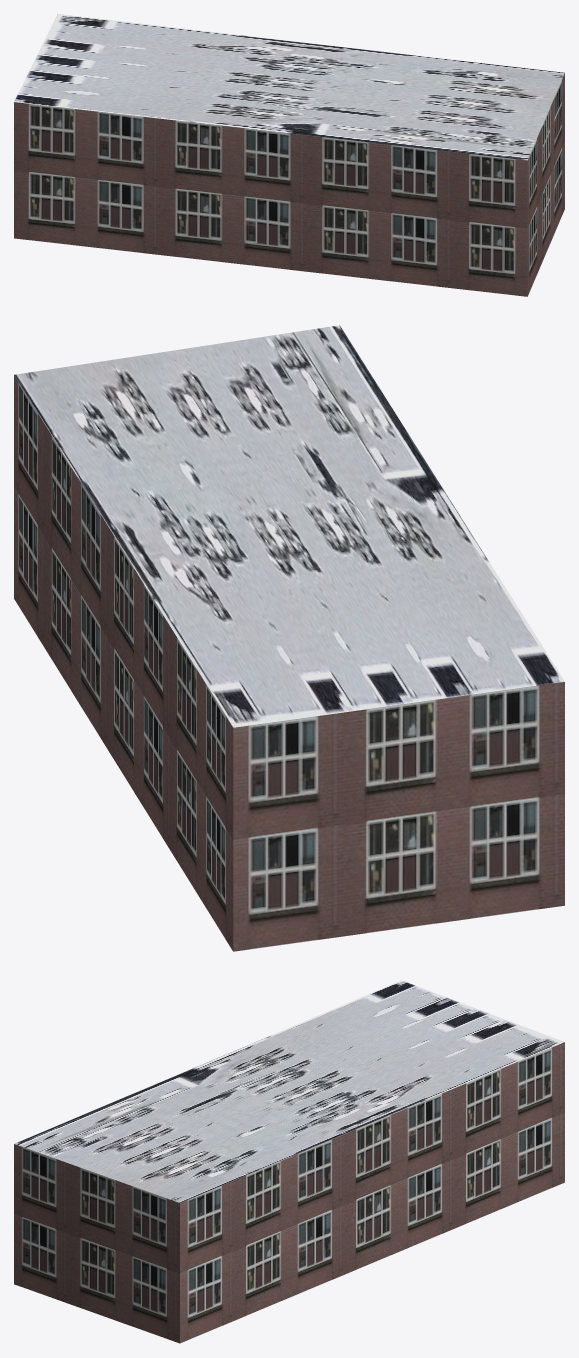
Rendered from ResTex__874.fbx.
3 views of the same model, one above another, from view 1: azimuth 30°, elevation 25°; view 2: azimuth 150°, elevation 25°; view 3: azimuth 270°, elevation 25° (orthographic). The views are drawn at different scales.
Parts seen in each view (by area): view 1: CityEngineMaterial_12_m, CityEngineMaterial_4_m; view 2: CityEngineMaterial_4_m, CityEngineMaterial_12_m; view 3: CityEngineMaterial_12_m, CityEngineMaterial_4_m.
Boxes of the visible parts, x1,y1,x2,y2 form: CityEngineMaterial_12_m: (14,73,564,296); CityEngineMaterial_4_m: (14,14,564,160); CityEngineMaterial_4_m: (14,325,564,727); CityEngineMaterial_12_m: (14,375,564,951); CityEngineMaterial_12_m: (14,1042,564,1343); CityEngineMaterial_4_m: (14,980,564,1202).
Size of the model in its own units: 20.41 by 6 by 21.34.
2 materials, 2 textured.
